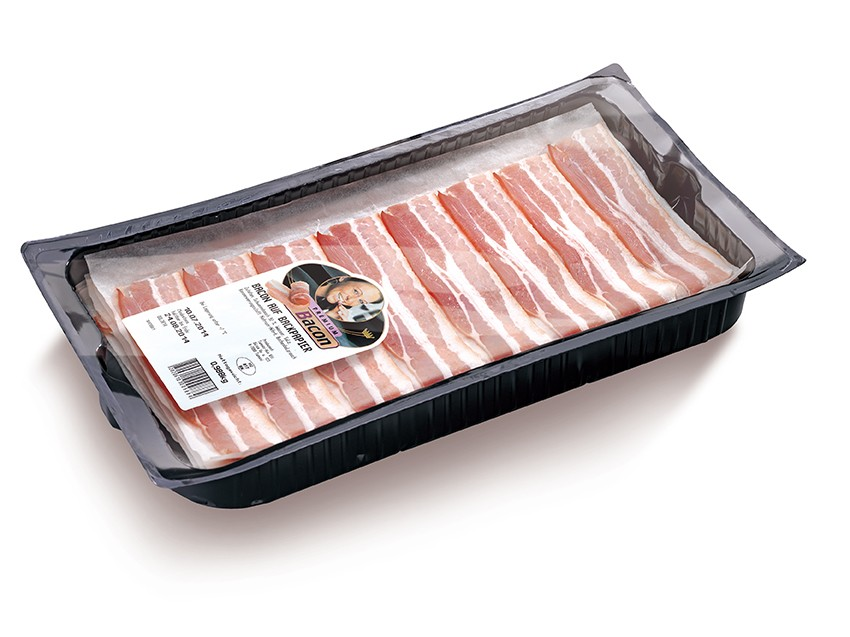bacon: (132, 146, 696, 413)
